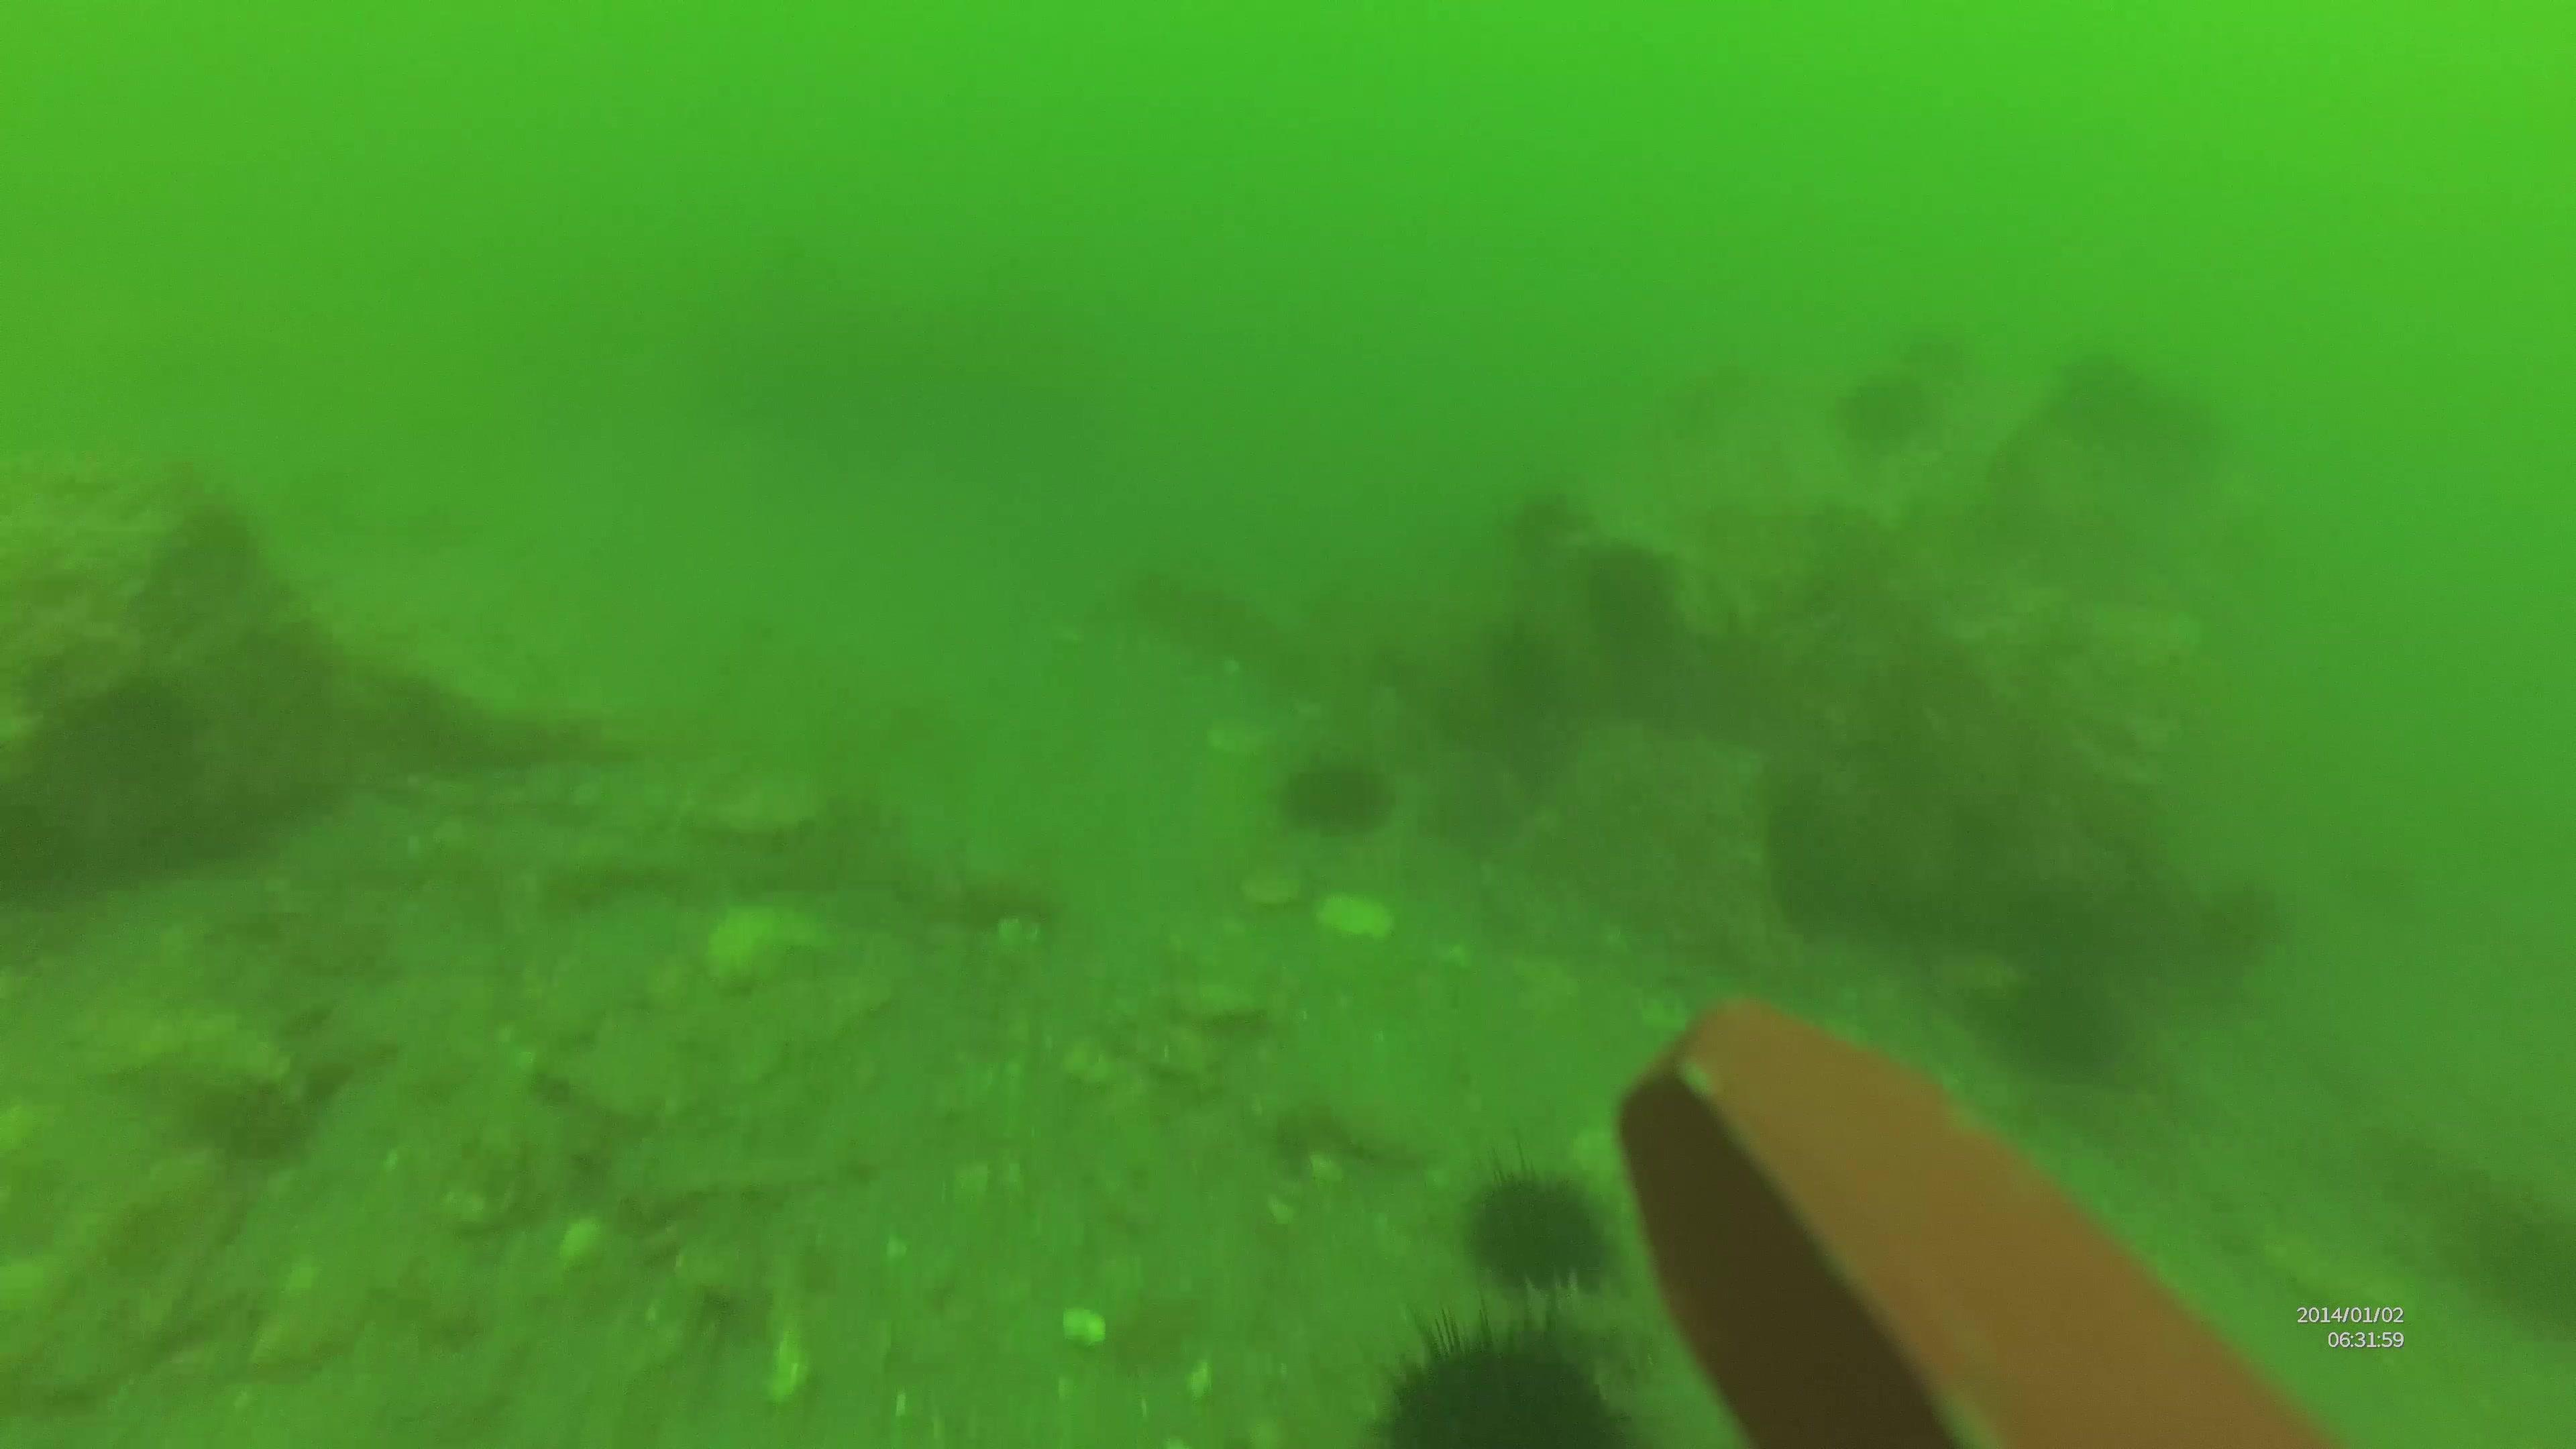echinus: (1366, 1300, 1645, 1449), (1454, 1145, 1621, 1315), (1279, 750, 1407, 849)
